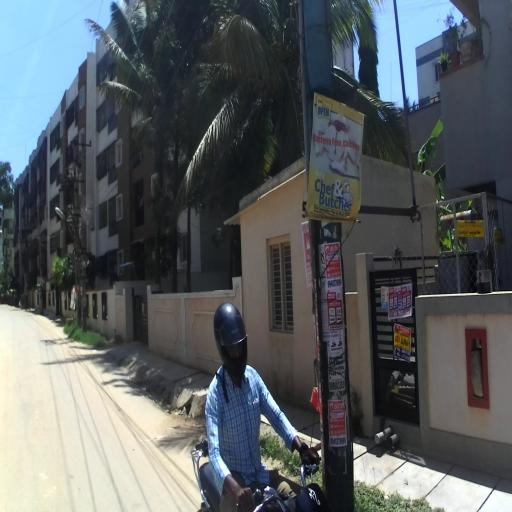street_light_0: (55, 207, 75, 240)
